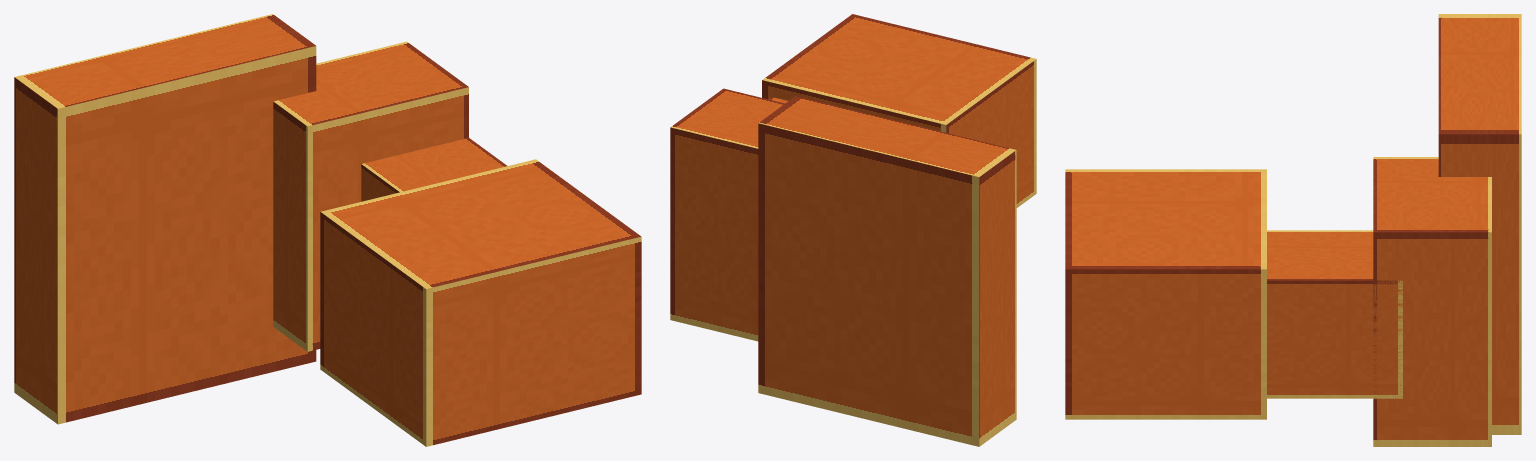
Rendered from bench_hoe_0_hot.obj.
The picture shows the model from 3 angles, left to right: view 1: azimuth 30°, elevation 25°; view 2: azimuth 150°, elevation 25°; view 3: azimuth 270°, elevation 25°; orthographic projection. The views are drawn at different scales.
Visible parts, largest first — view 1: geometry; view 2: geometry; view 3: geometry.
Boxes of the visible parts, bbox=[...] form: geometry: bbox=[14, 14, 641, 446]; geometry: bbox=[670, 14, 1036, 446]; geometry: bbox=[1065, 14, 1521, 446].
Size of the model in its own units: 0.3214 by 0.25 by 0.3438.
